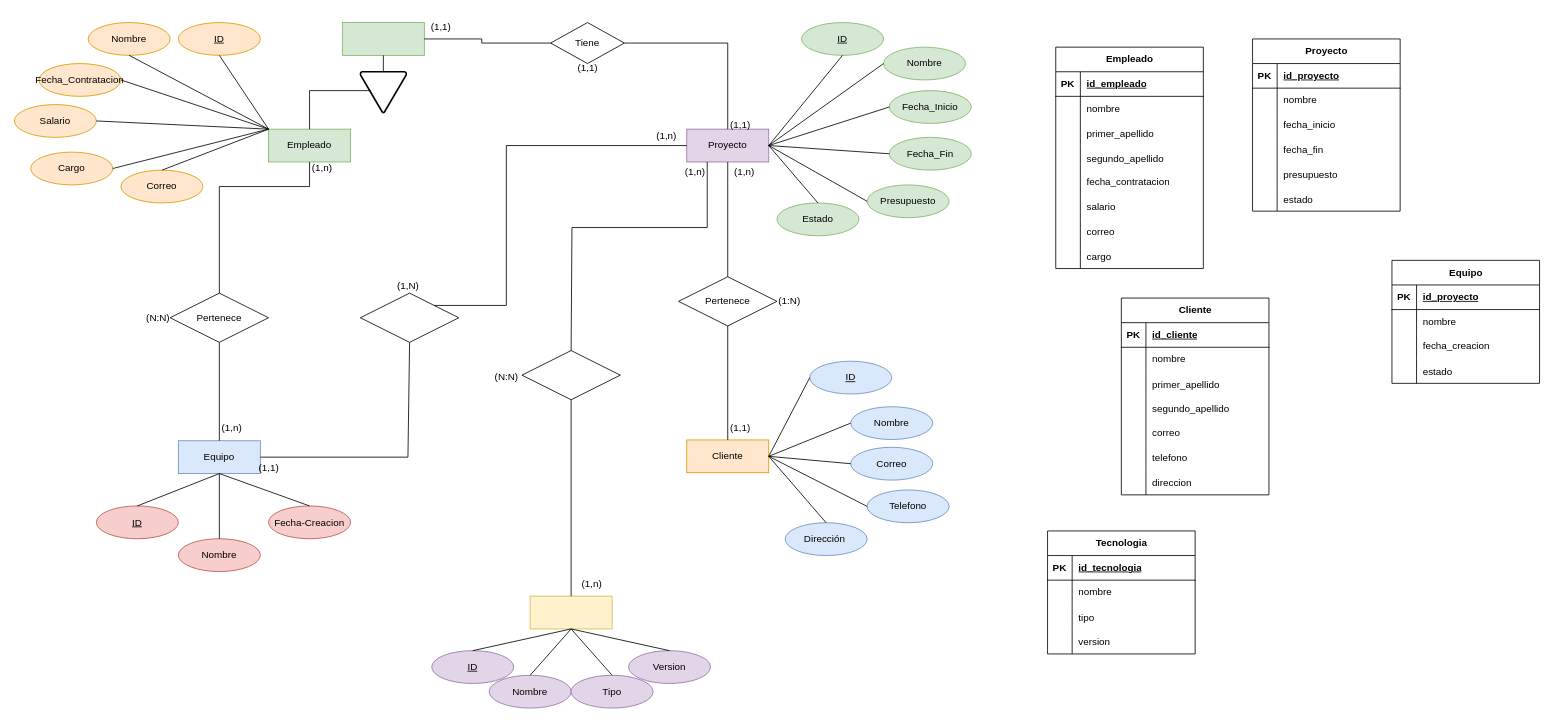
The diagram is 1554 pixels wide and 722 high, and some of its shapes have lost their labels. The shapes that lost their labels are listed below. From the top down, each one's box as (x1, y1, x2, y2) in pixels, then its label:
(342, 22, 424, 55): Lider_Proyecto
(359, 71, 407, 113): Puede ser
(360, 292, 459, 342): Desarrolla
(521, 350, 620, 400): Implementa
(529, 595, 612, 629): Tecnología
